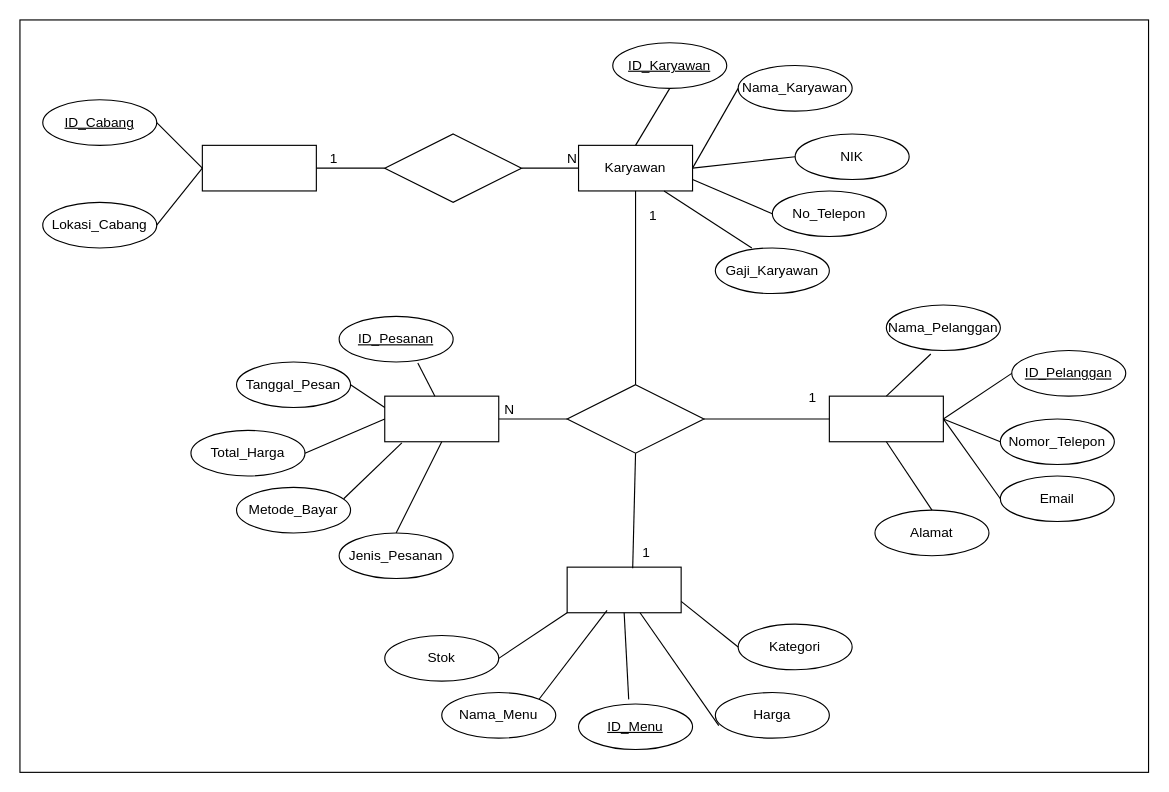
The diagram is 1169 pixels wide and 792 high, and some of its shapes have lost their labels. The centre of each missing label's shape, as x and y in pixels:
"Cabang" goes at [258,167].
"Kerja" goes at [453,167].
"Menu" goes at [441,418].
"Order" goes at [635,418].
"Pelanggan" goes at [885,418].
"Pesanan" goes at [623,589].
